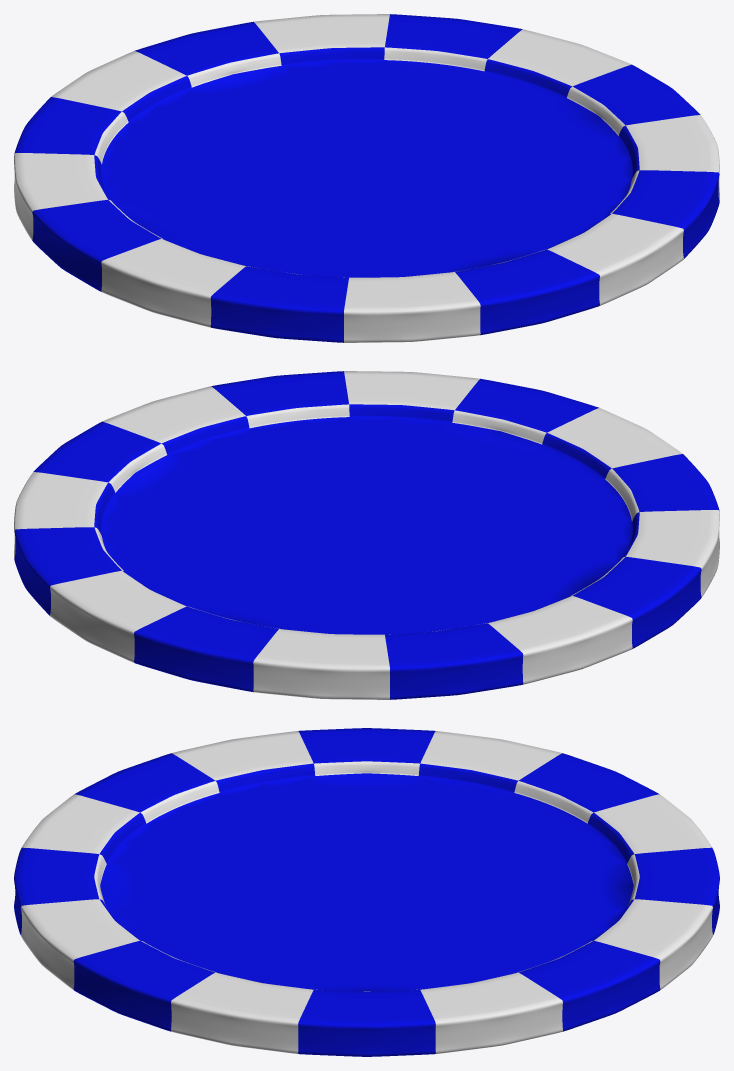
File: Chip_Blue.fbx
The picture shows the model from 3 angles, top to bottom: view 1: azimuth 30°, elevation 25°; view 2: azimuth 150°, elevation 25°; view 3: azimuth 270°, elevation 25°; orthographic projection.
Parts seen in each view (by area): view 1: Chip_Blue; view 2: Chip_Blue; view 3: Chip_Blue.
Boxes of the visible parts, <box> form: Chip_Blue: <box>14,14,719,342</box>; Chip_Blue: <box>14,371,719,699</box>; Chip_Blue: <box>14,728,719,1056</box>.
Size of the model in its own units: 199 by 10.01 by 199.
